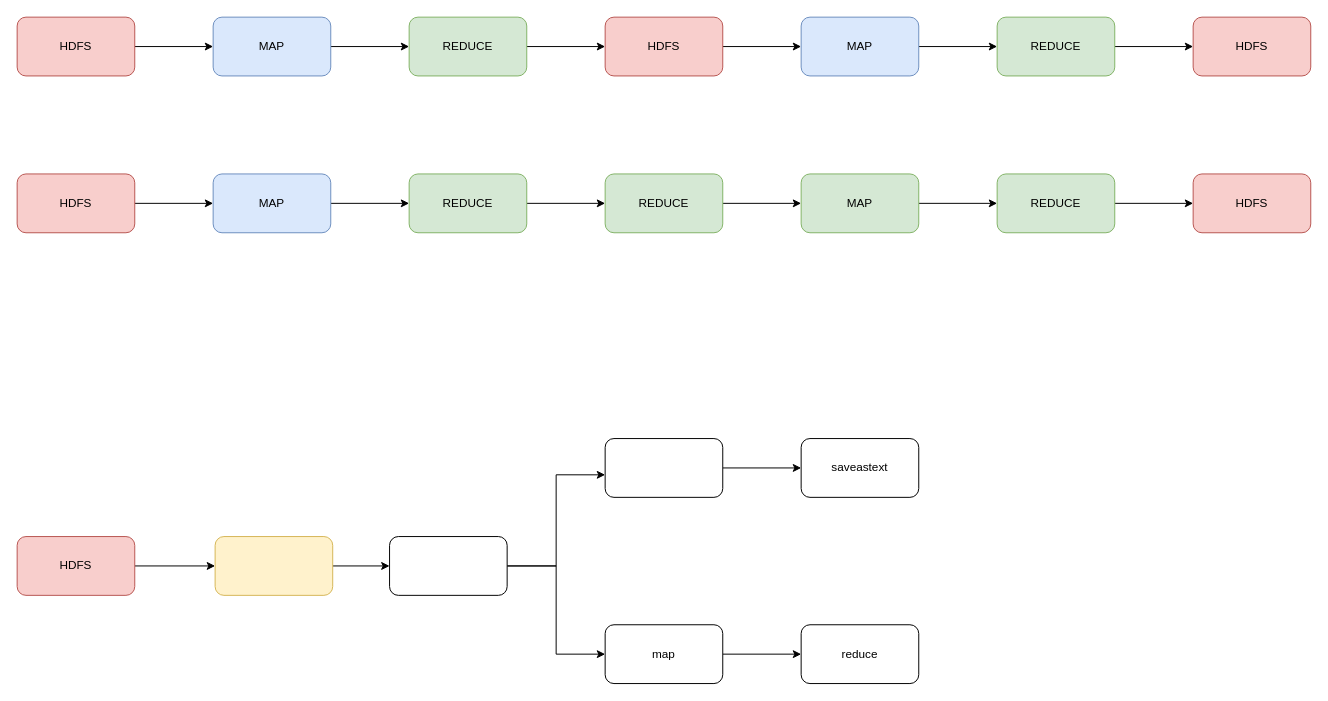
The diagram is 1328 pixels wide and 701 high, and some of its shapes have lost their labels. The centre of each missing label's shape, as x and y in pixels:
"filter" goes at (x=663, y=467).
"Hadoop RDD" goes at (x=273, y=565).
"rdd.cache()" goes at (x=448, y=565).
